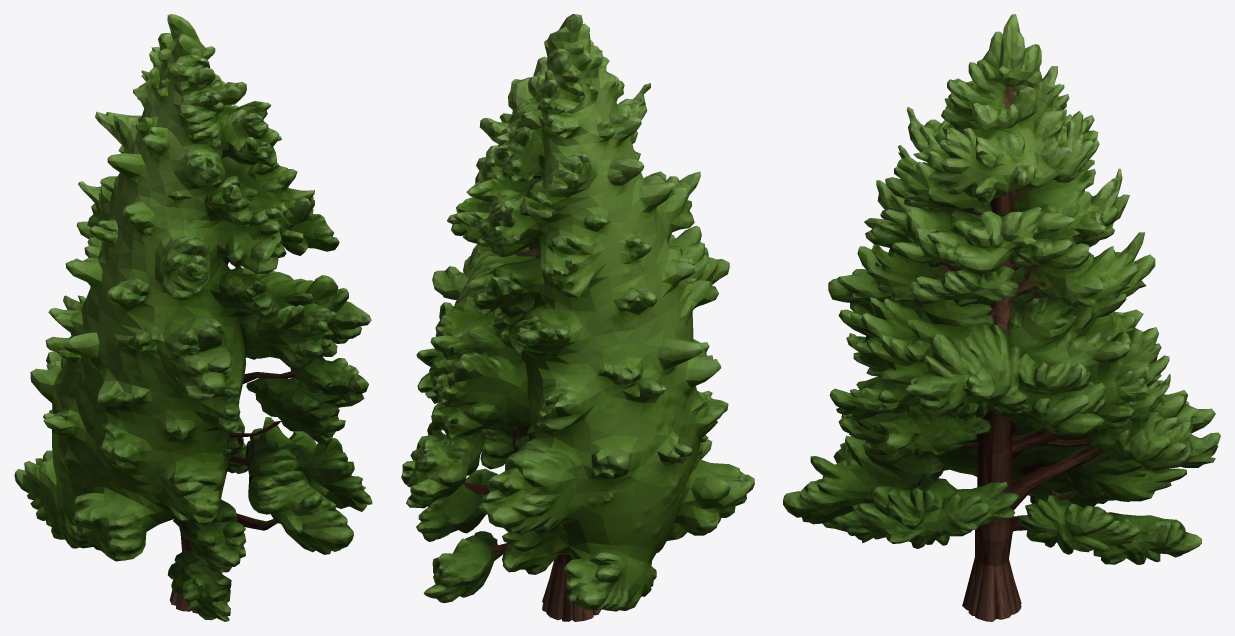
Rendered from Pino.glb.
3 views of the same model, side by side, from view 1: azimuth 30°, elevation 25°; view 2: azimuth 150°, elevation 25°; view 3: azimuth 270°, elevation 25° (orthographic). The views are drawn at different scales.
Parts seen in each view (by area): view 1: tripo_node_d157f0eb-4d12-4378-8790-66bd1af69e06; view 2: tripo_node_d157f0eb-4d12-4378-8790-66bd1af69e06; view 3: tripo_node_d157f0eb-4d12-4378-8790-66bd1af69e06.
Boxes of the visible parts, x1,y1,x2,y2 form: tripo_node_d157f0eb-4d12-4378-8790-66bd1af69e06: (14, 14, 372, 621); tripo_node_d157f0eb-4d12-4378-8790-66bd1af69e06: (401, 14, 754, 621); tripo_node_d157f0eb-4d12-4378-8790-66bd1af69e06: (783, 14, 1220, 621).
Size of the model in its own units: 2.08 by 4 by 2.72.
Materials: 1 (1 with a texture image).
